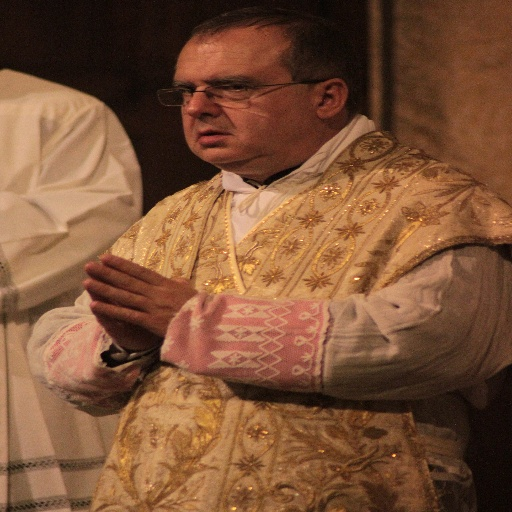hand: (79, 266, 163, 357)
